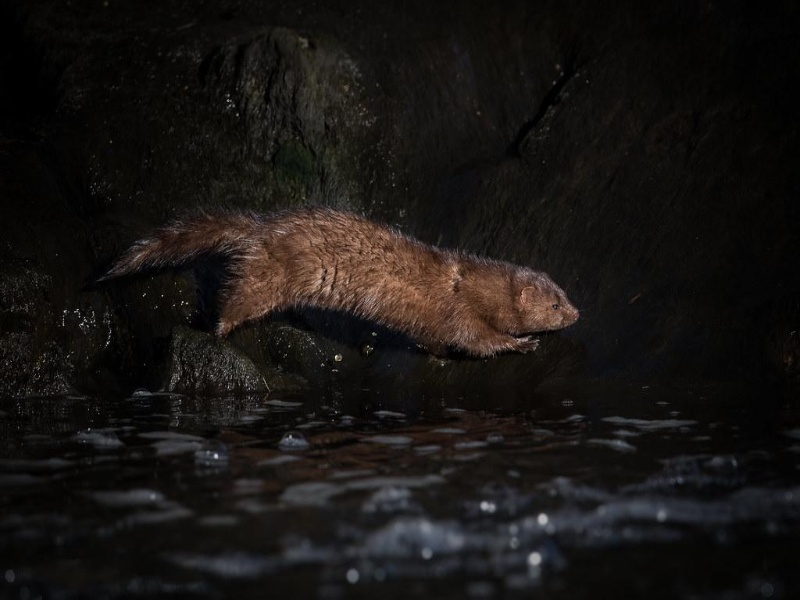minkish: (105, 208, 589, 361)
